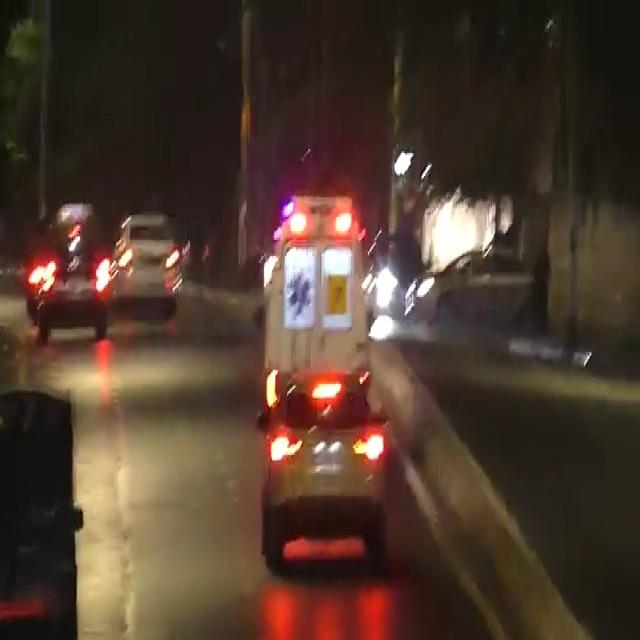ambulance: (268, 192, 383, 393)
